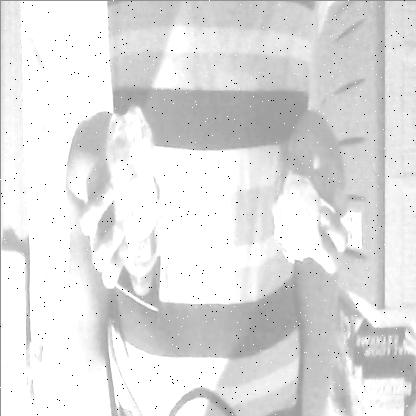Plastic Bottle: (99, 96, 170, 302)
